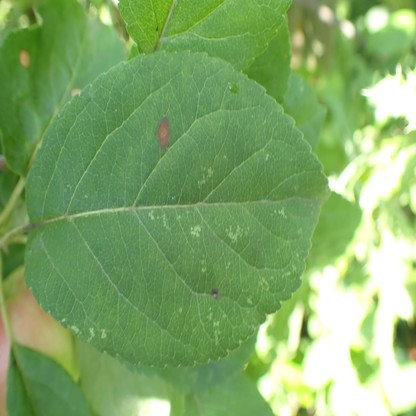frogeye_leaf_spot: (157, 117, 170, 149), (19, 50, 31, 68), (71, 87, 81, 96)
